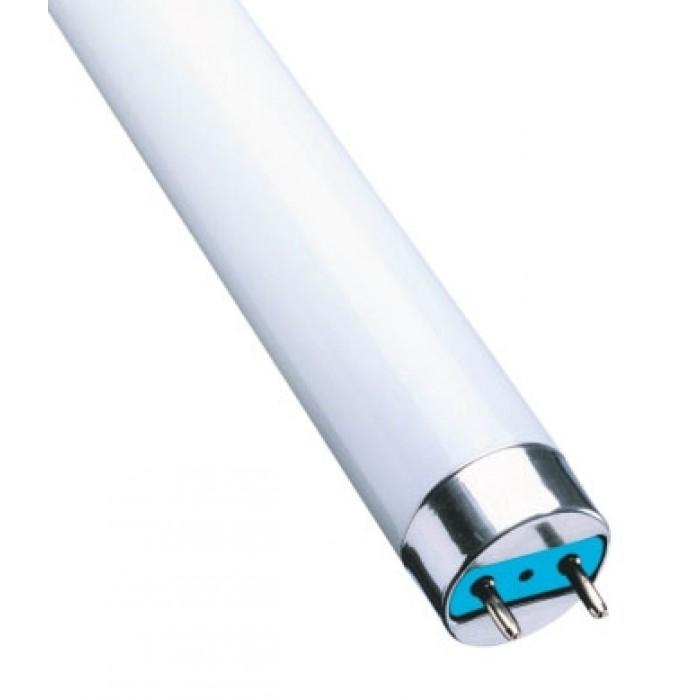Light_bulb: (47, 1, 630, 657)
